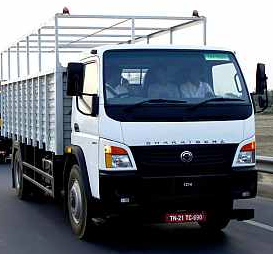truck: (1, 8, 268, 243)
